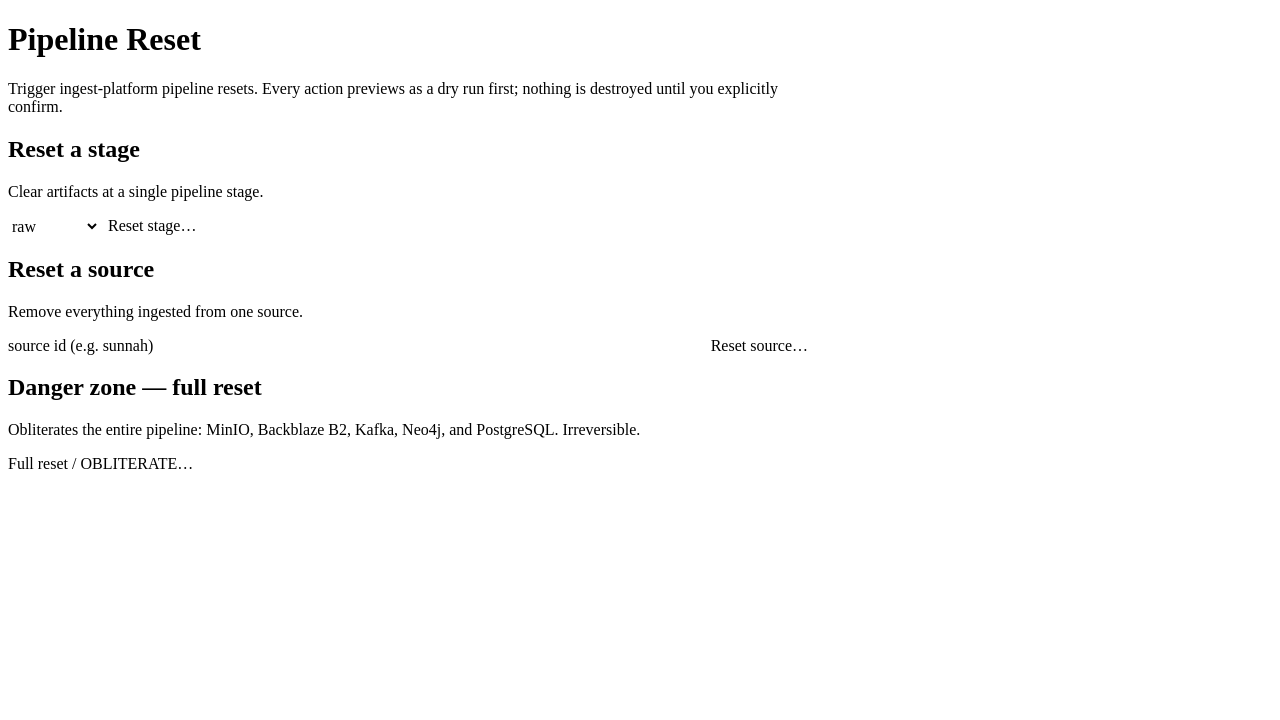
Test: ResetPage › runs a dry run first, then the real stage reset only on explicit confirm
Click the button "Reset stage…" at (152,226), box x1=108 y1=217 x2=196 y2=235
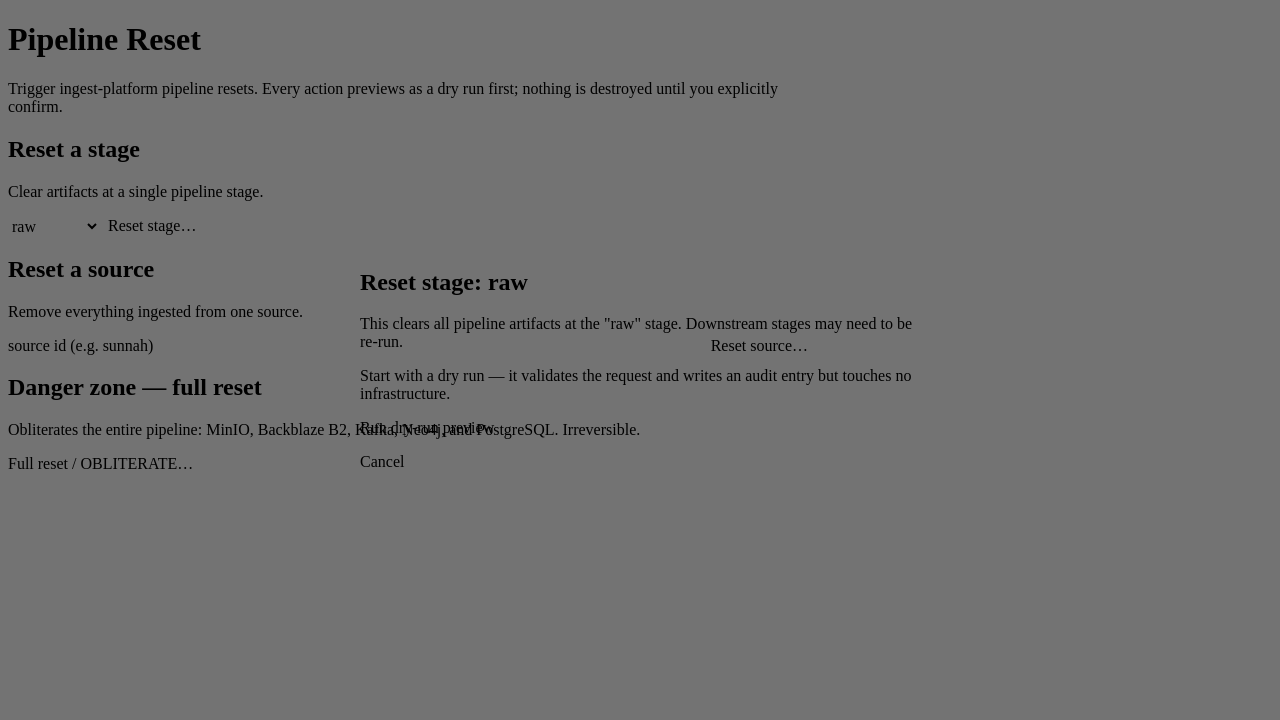
Expected: the button "Run reset for real" is not shown
Now the dialog is shown, box x1=360 y1=249 x2=920 y2=471
Click the button "Run dry-run preview" at (427,428), box x1=360 y1=419 x2=494 y2=437
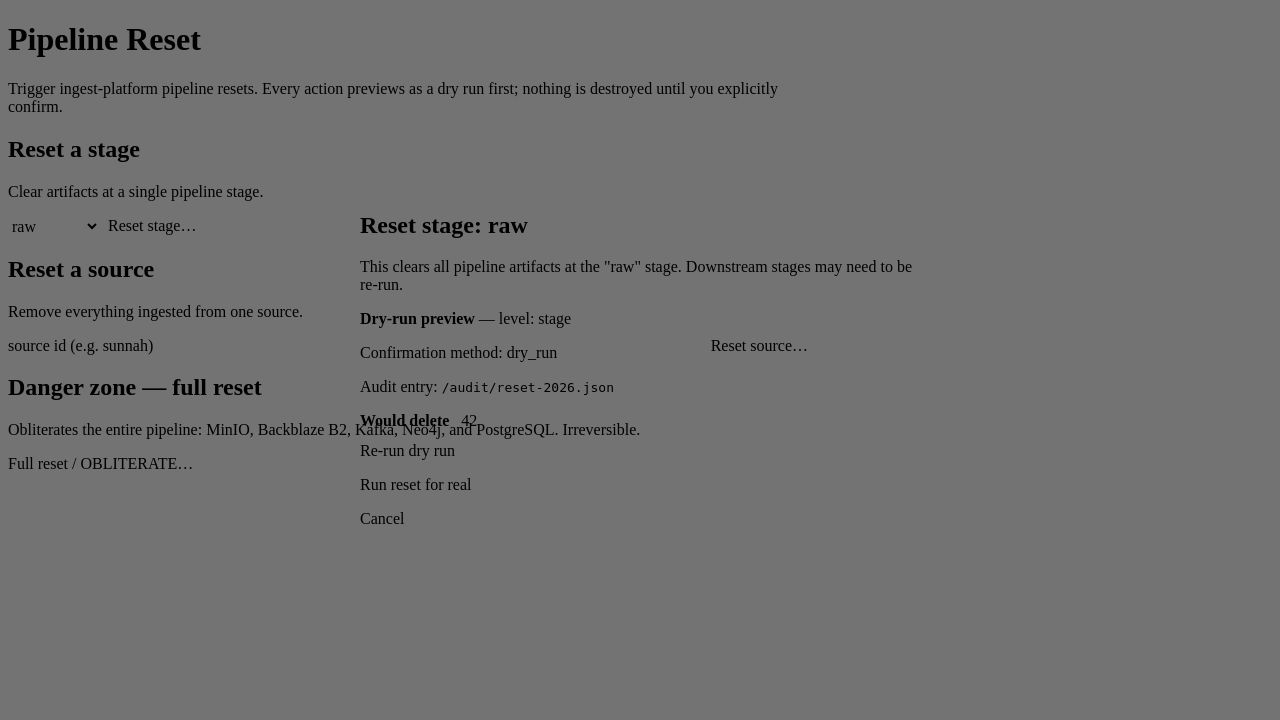
Now the text "Dry-run preview" is shown, box x1=360 y1=310 x2=475 y2=327
Now the text "/audit/reset-2026.json" is shown, box x1=442 y1=380 x2=614 y2=395
Click the button "Run reset for real" at (416,485), box x1=360 y1=476 x2=472 y2=494
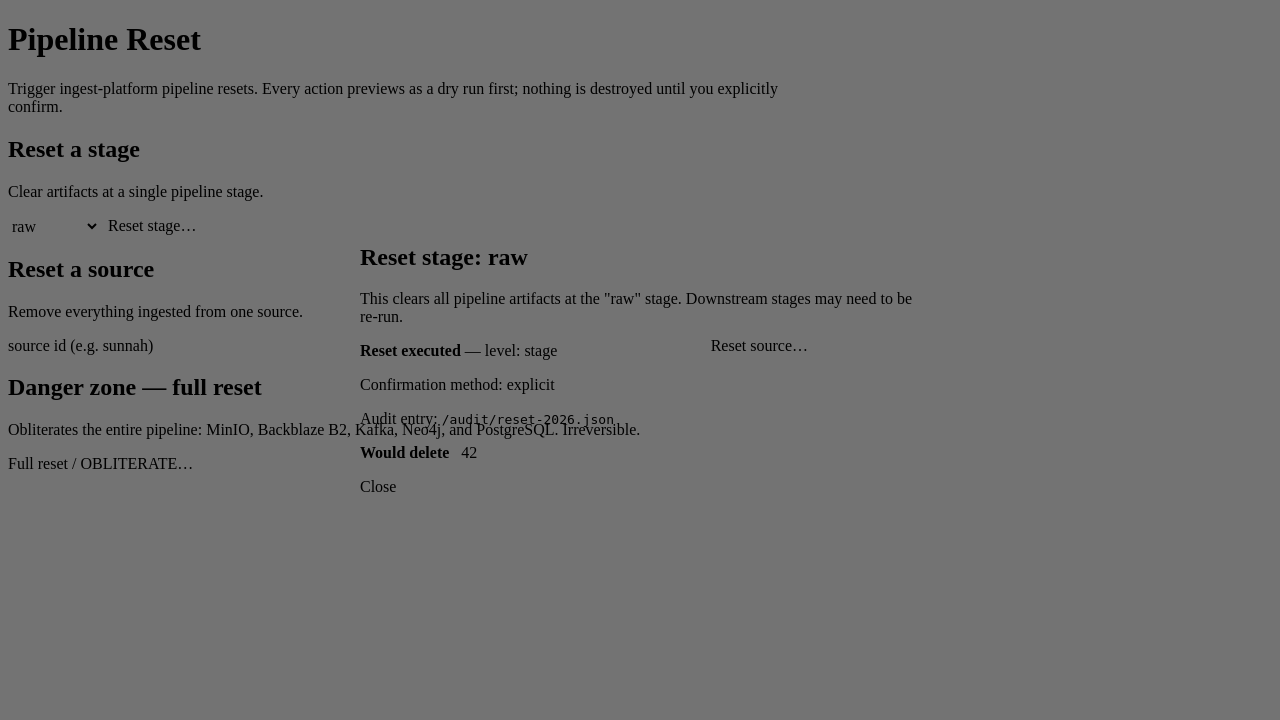
Now the text "Reset executed" is shown, box x1=360 y1=342 x2=461 y2=359
